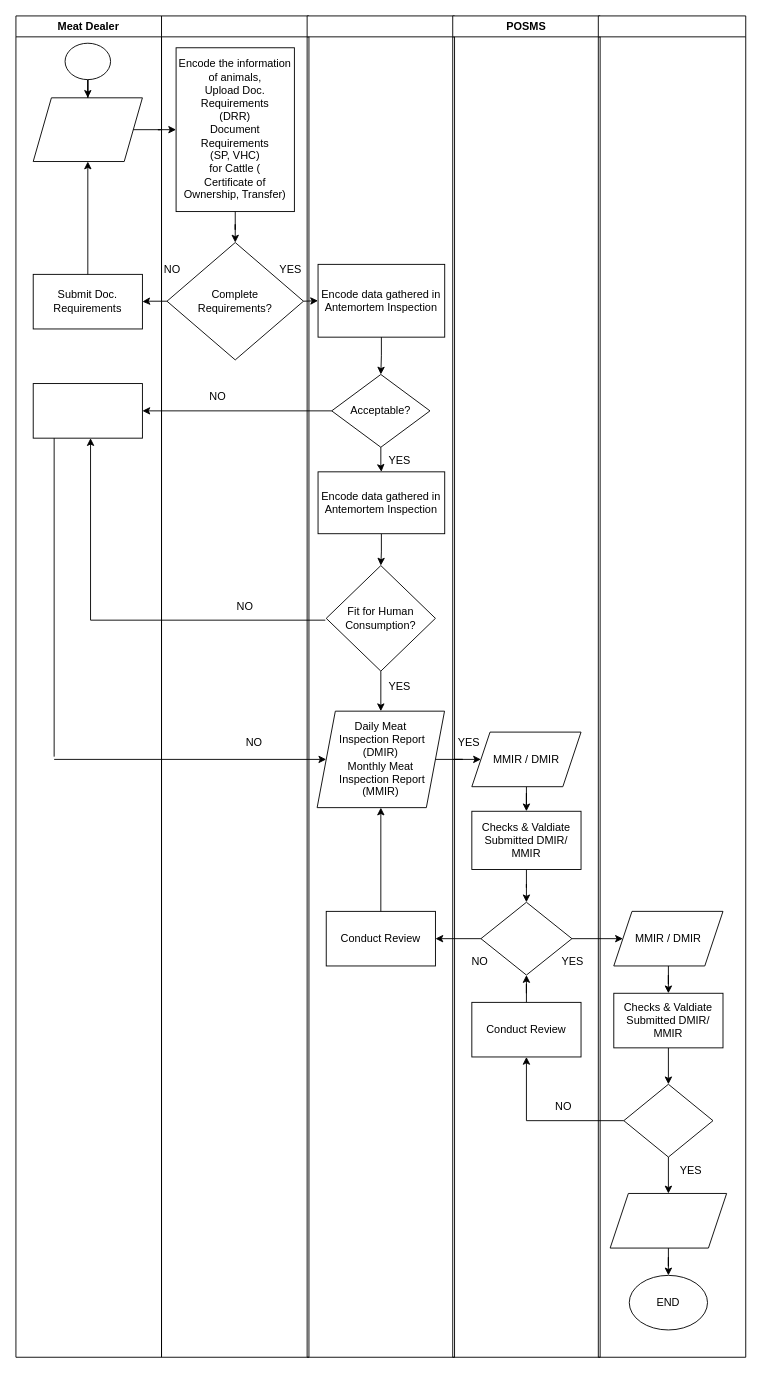
This 762x1373 diagram has some shape labels left out. Each missing label, with the box of its shape:
Approved?: (480, 901, 572, 975)
Complete / Approved?: (623, 1083, 713, 1157)
Issuance of Condemnation Slip: (32, 383, 142, 438)
Meat Establishment: (161, 15, 309, 1357)
Meat Inspector Officer: (306, 15, 455, 1357)
POSMD: (597, 15, 746, 1357)
Recorded / Consolidated MMIR's: (609, 1193, 727, 1248)
Start: (64, 42, 111, 80)
Submit Doc. Requirements / Number of Live Animals: (32, 97, 142, 162)
